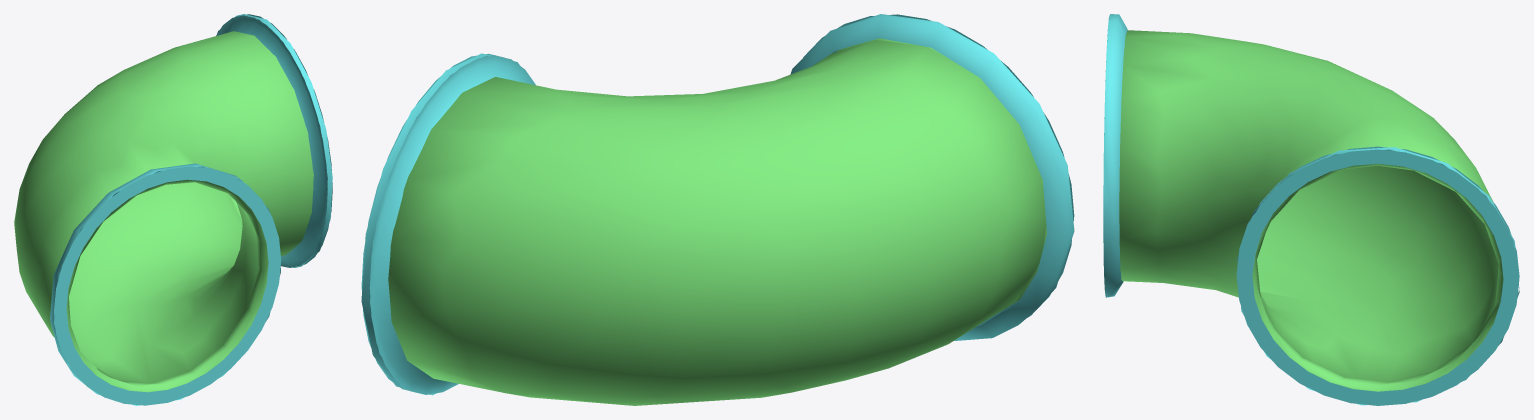
The model's file is tubo_curvo_LODs.fbx.
The picture shows the model from 3 angles, left to right: view 1: azimuth 30°, elevation 25°; view 2: azimuth 150°, elevation 25°; view 3: azimuth 270°, elevation 25°; orthographic projection. The views are drawn at different scales.
Visible parts, largest first — view 1: tubo_curvo_LOD0; view 2: tubo_curvo_LOD0; view 3: tubo_curvo_LOD0.
Boxes of the visible parts, x1,y1,x2,y2 form: tubo_curvo_LOD0: (14,14,332,405); tubo_curvo_LOD0: (361,14,1074,405); tubo_curvo_LOD0: (1103,14,1519,405).
Size of what is drawn, in the model's own units: 652 by 425 by 624.
